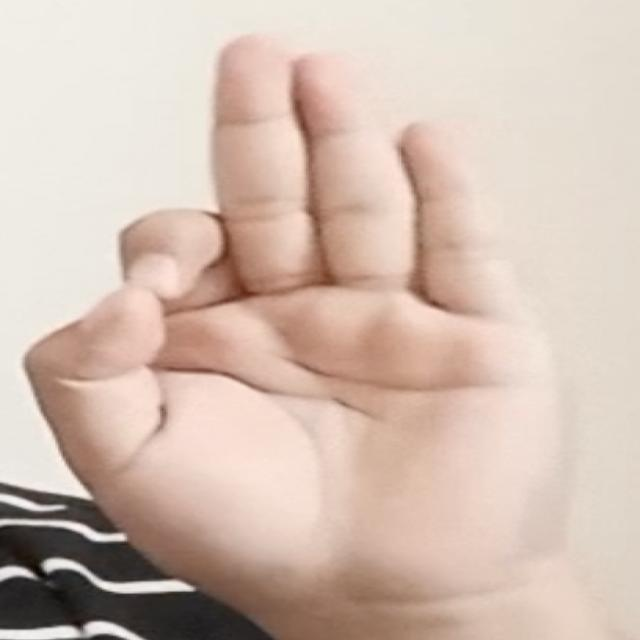F: (22, 31, 582, 620)
